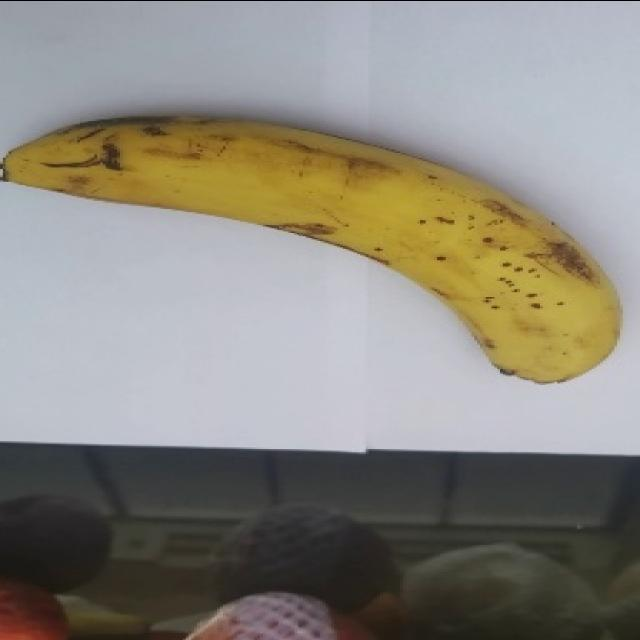Banana: (0, 113, 622, 384)
